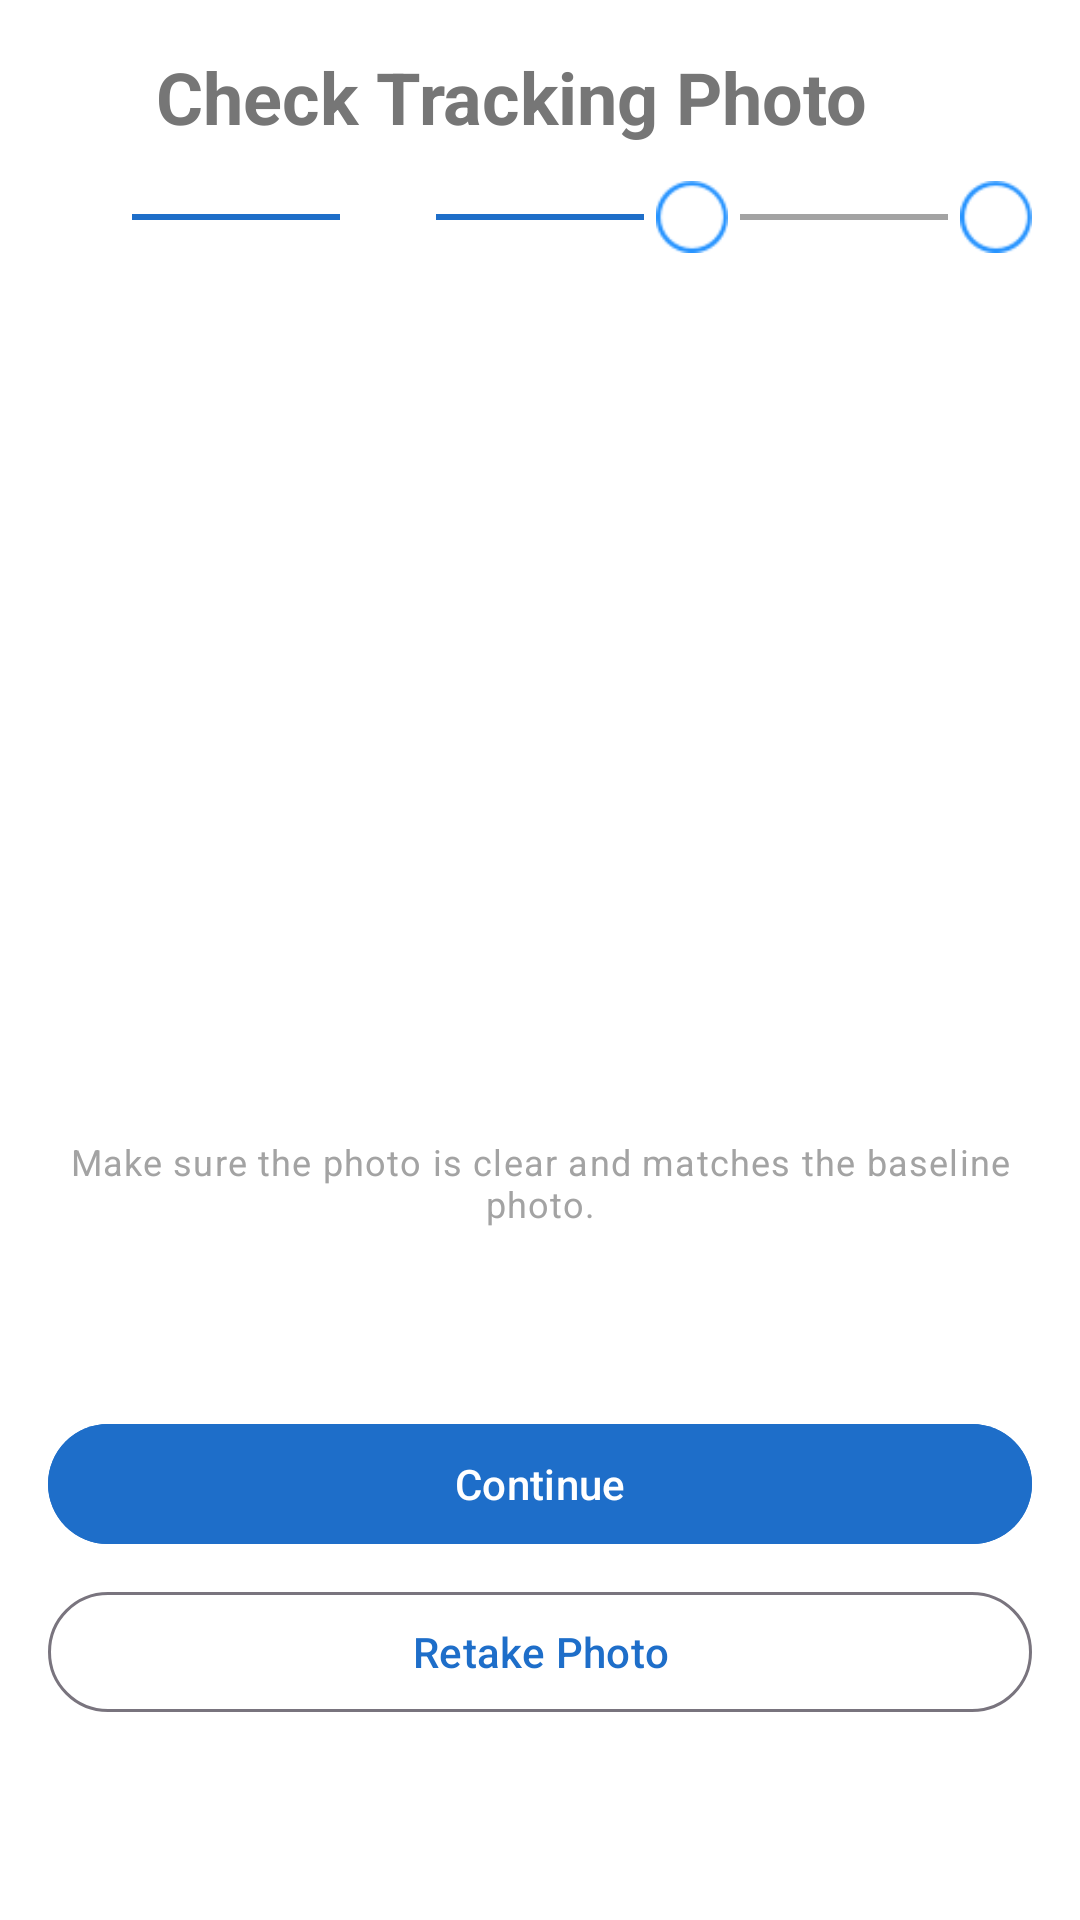

Icons on this 1080x1920 Android screen, each with the point to tap as [x,y]:
Step 3 active: [692,217]
